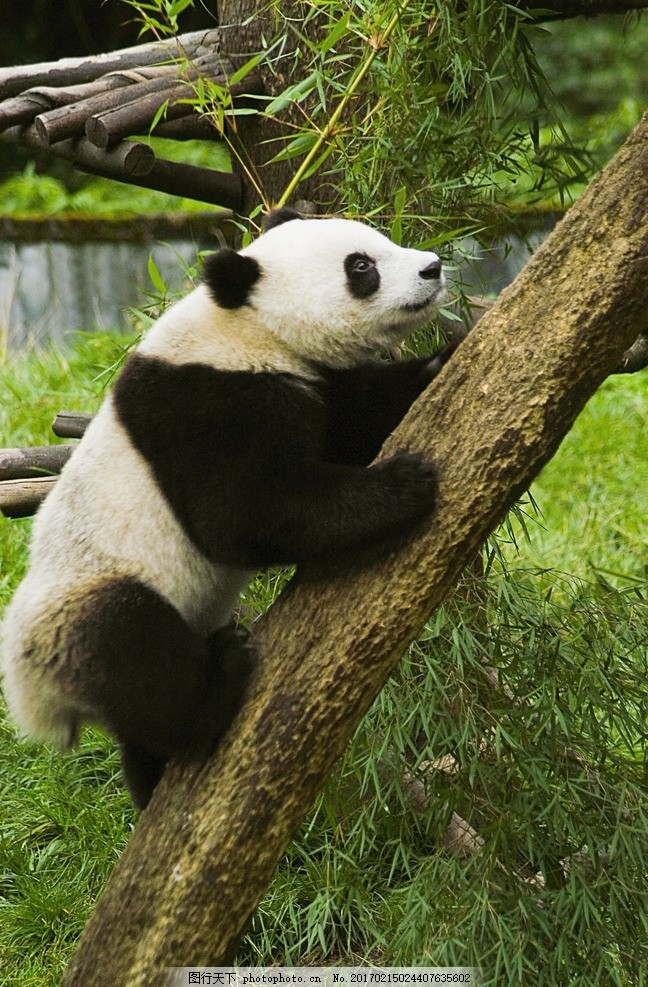panda: (13, 204, 456, 809)
